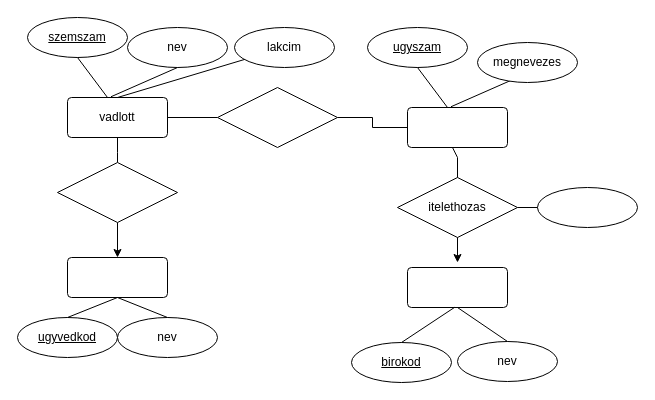
The diagram is 655 pixels wide and 400 high, and some of its shapes have lost their labels. Here are the shapes that lost their labels. From the top down, the centre of each, then its label:
At (x=277, y=117): "bunose".
At (x=457, y=127): "ugy".
At (x=117, y=192): "vedi".
At (x=587, y=207): "itelet".
At (x=117, y=277): "ugyved".
At (x=457, y=287): "biro".
